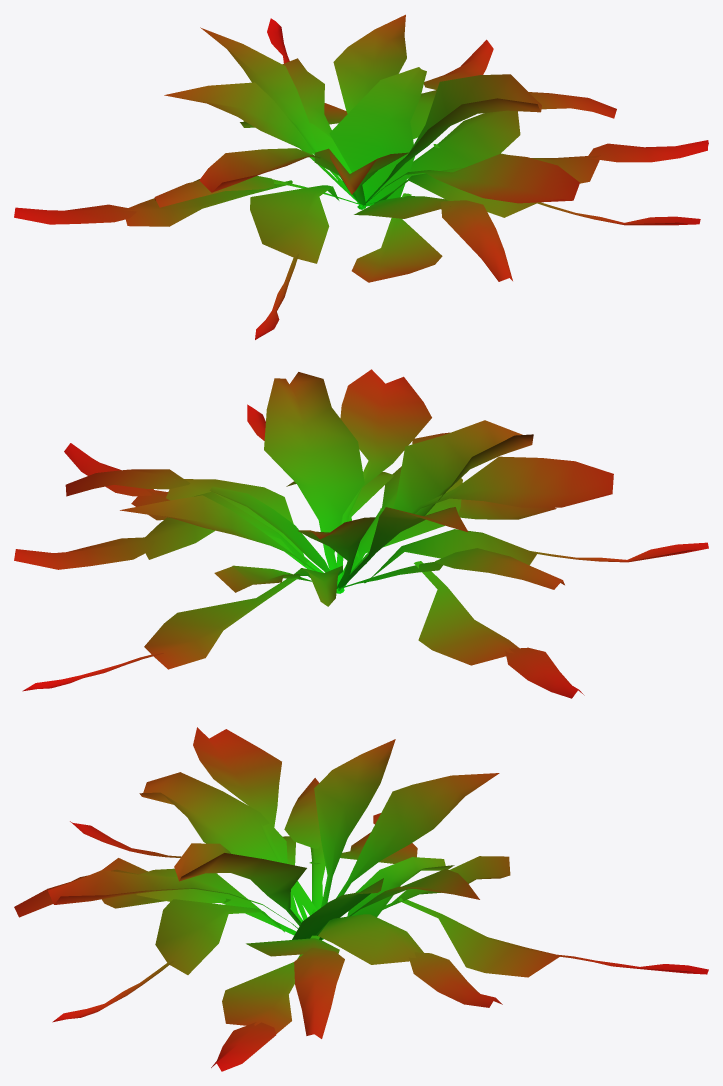
The model's file is Var4_LOD1.fbx.
The picture shows the model from 3 angles, top to bottom: view 1: azimuth 30°, elevation 25°; view 2: azimuth 150°, elevation 25°; view 3: azimuth 270°, elevation 25°; orthographic projection. The views are drawn at different scales.
Parts seen in each view (by area): view 1: _fdaf_Var4_LOD1; view 2: _fdaf_Var4_LOD1; view 3: _fdaf_Var4_LOD1.
Boxes of the visible parts, x1=… form: _fdaf_Var4_LOD1: x1=14, y1=14, x2=708, y2=339; _fdaf_Var4_LOD1: x1=14, y1=369, x2=708, y2=698; _fdaf_Var4_LOD1: x1=14, y1=727, x2=708, y2=1071.
Size of the model in its own units: 79.16 by 18.03 by 78.68.
